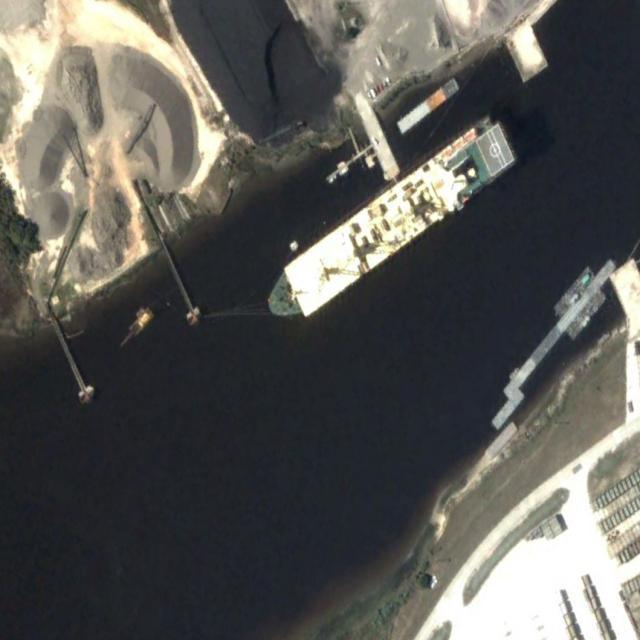Cargo: (258, 110, 518, 338)
